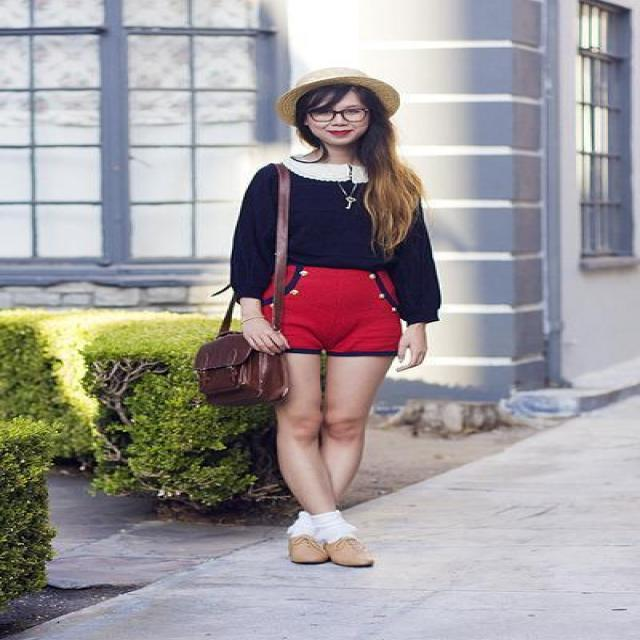bag: (184, 166, 294, 408)
hat: (290, 54, 398, 118)
jacket: (213, 167, 440, 326)
shoe: (278, 532, 373, 568)
shorts: (260, 267, 402, 370)
